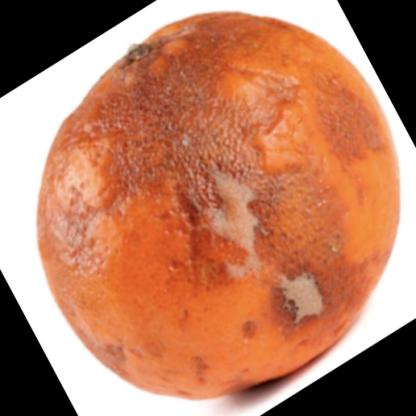rotten: (36, 10, 400, 400)
